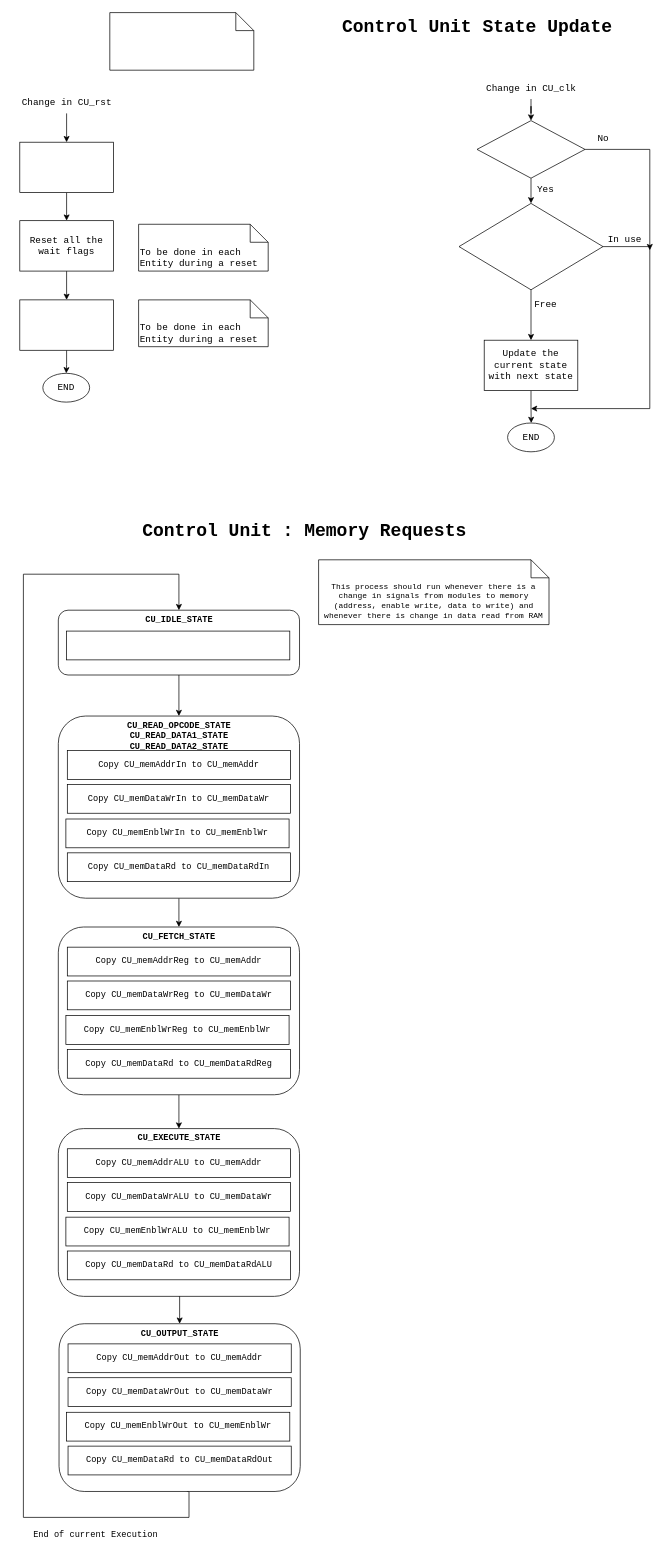
Image size: 668x1559. Some labels were removed from this diagram. Here are the shapes that lost their labels. From the top down, the centre of each, then its label:
At pixel 181 41: "This process should run whenever there is a change in reset or clock.".
At pixel 66 167: "Set current state of CU as CU_IDLE_STATE".
At pixel 530 149: "Falling edge of CU_clk".
At pixel 530 246: "Check if any other entities are using the resources".
At pixel 66 324: "Reset all output signals".
At pixel 178 645: "Do nothing".
